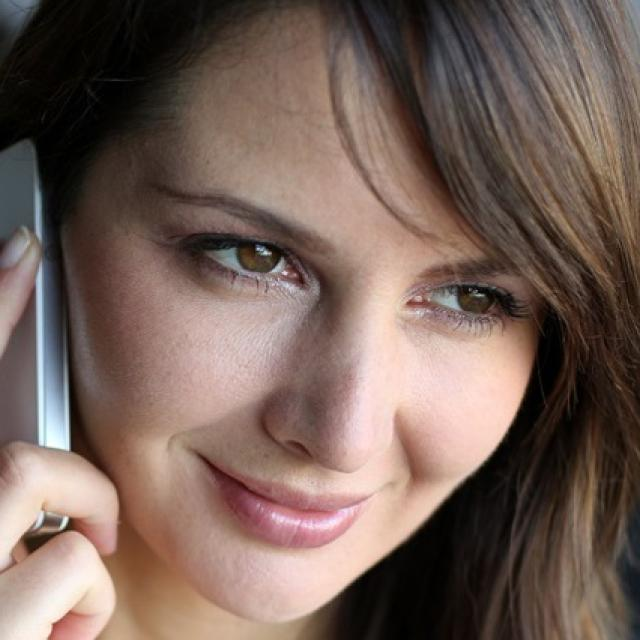Normal: (57, 8, 554, 626)
